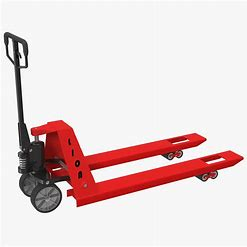Pallet Jack: (3, 31, 245, 215)
